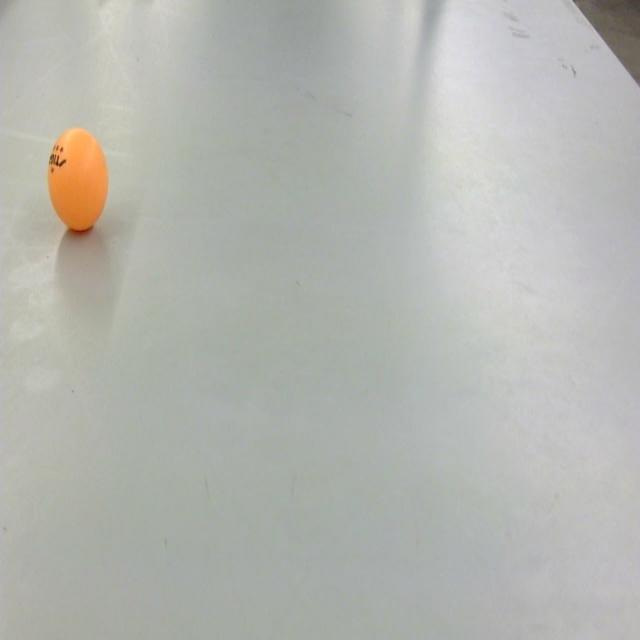ball: (46, 128, 110, 239)
